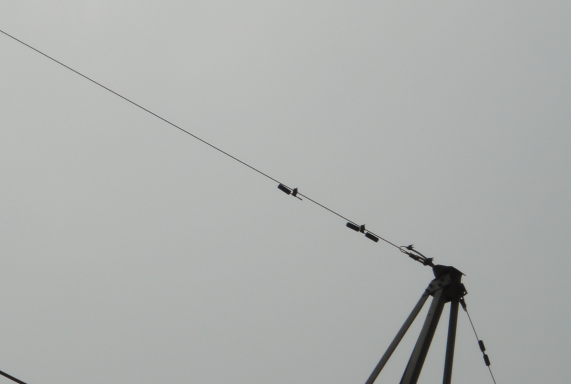damper: (345, 220, 380, 245), (477, 338, 490, 368)
damper_defect: (275, 183, 303, 202)
